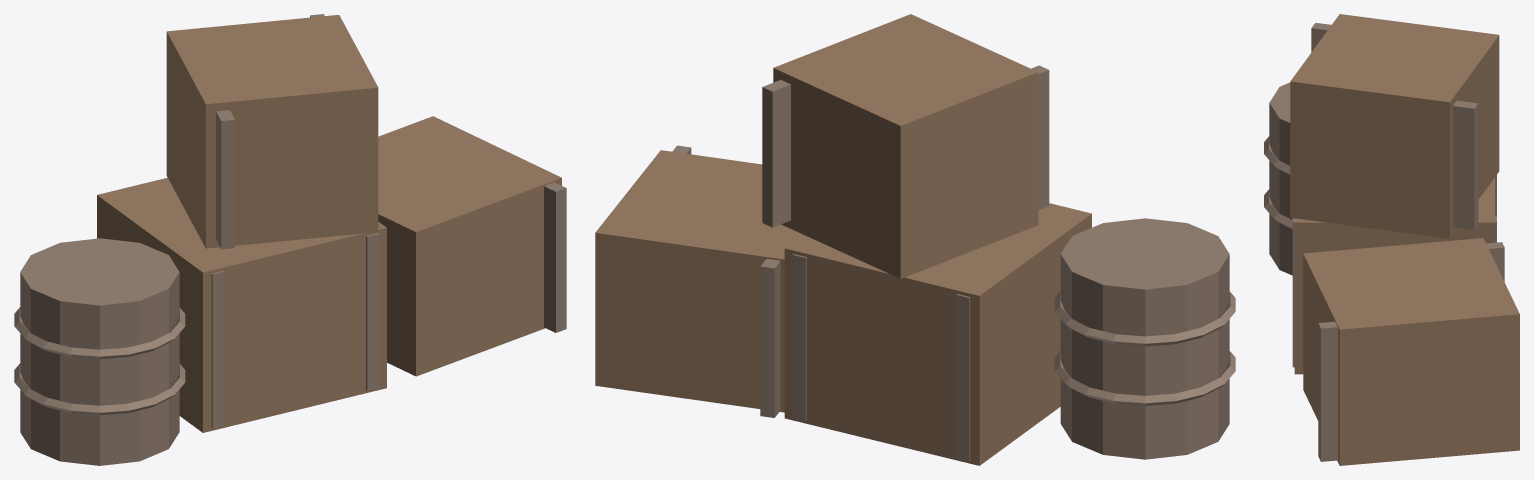
The model's file is prop_crate_stack.glb.
3 views of the same model, side by side, from view 1: azimuth 30°, elevation 25°; view 2: azimuth 150°, elevation 25°; view 3: azimuth 270°, elevation 25° (orthographic). The views are drawn at different scales.
Visible parts, largest first — view 1: prop_crate_stack_wood, prop_crate_stack_metal; view 2: prop_crate_stack_wood, prop_crate_stack_metal; view 3: prop_crate_stack_wood, prop_crate_stack_metal.
Part boxes in pixels (bbox=[...]): prop_crate_stack_wood: bbox=[97, 15, 561, 432]; prop_crate_stack_metal: bbox=[14, 14, 566, 465]; prop_crate_stack_wood: bbox=[595, 14, 1091, 465]; prop_crate_stack_metal: bbox=[672, 65, 1235, 460]; prop_crate_stack_wood: bbox=[1290, 14, 1519, 465]; prop_crate_stack_metal: bbox=[1264, 22, 1504, 461].
Size of the model in its own units: 3.49 by 1.9 by 1.53.
